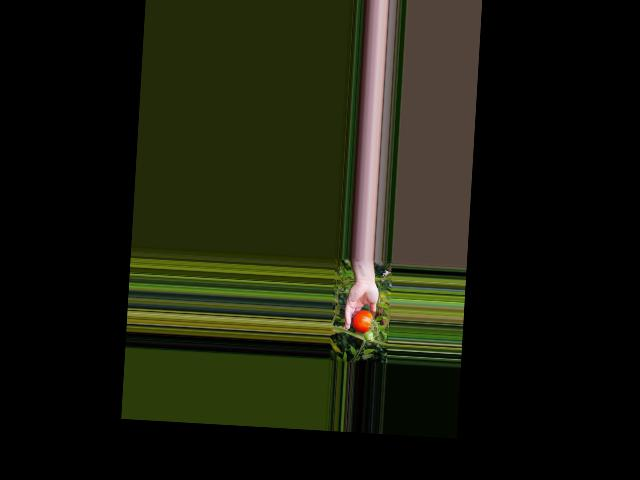tomato: (352, 309, 373, 333)
